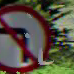Don't turn left: (0, 3, 50, 73)
